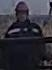helmet: (15, 1, 30, 14)
vest: (6, 22, 43, 40)
